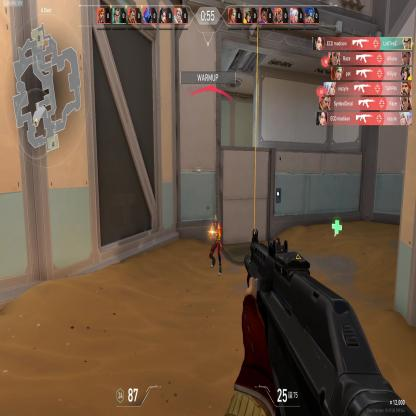enemy: (208, 213, 223, 276)
